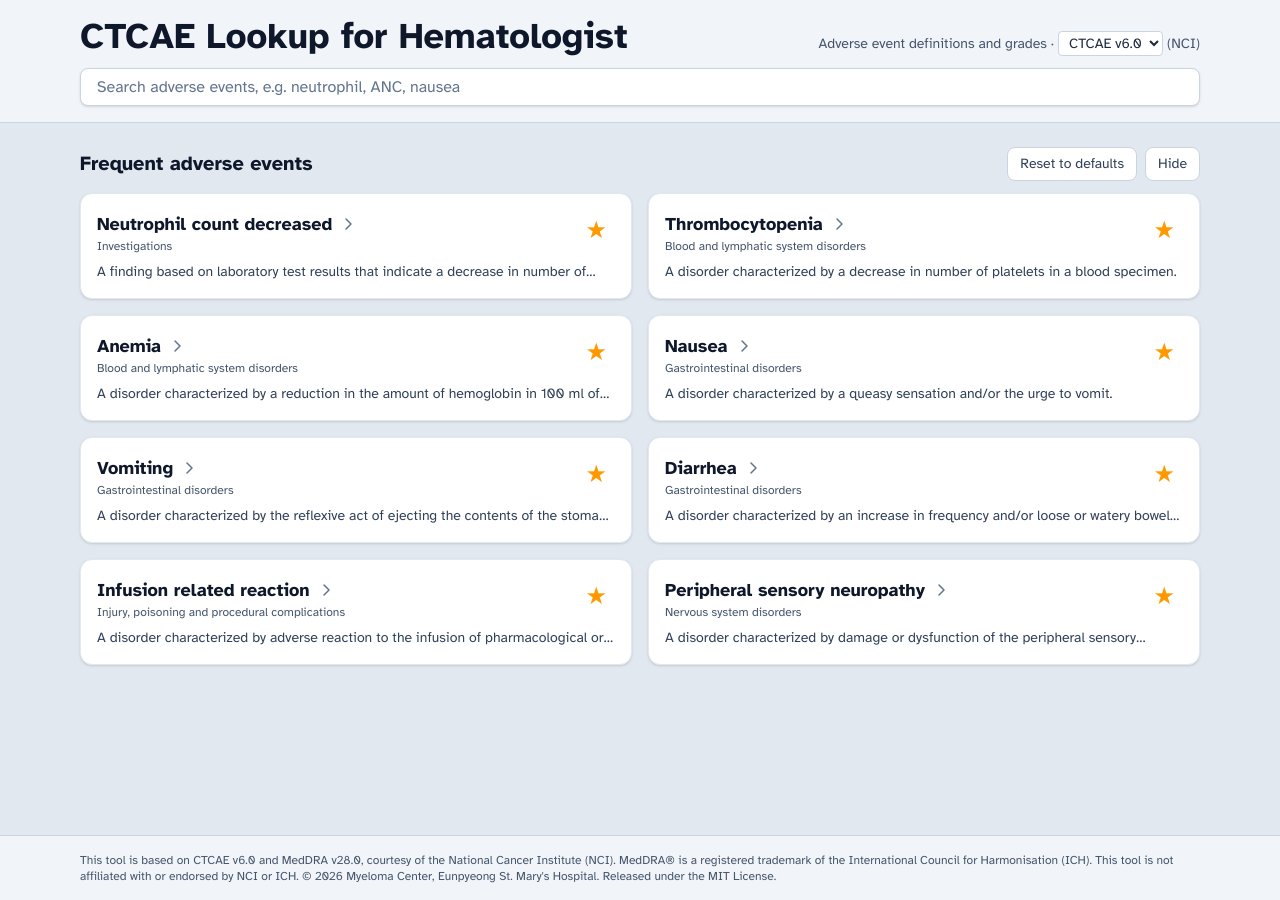
Scenario: typing shows matching cards and clearing returns to favorites
In the dropdown labelled "Search adverse events": coordinates (640, 87) [80,68,1200,106], type "neutrophil"
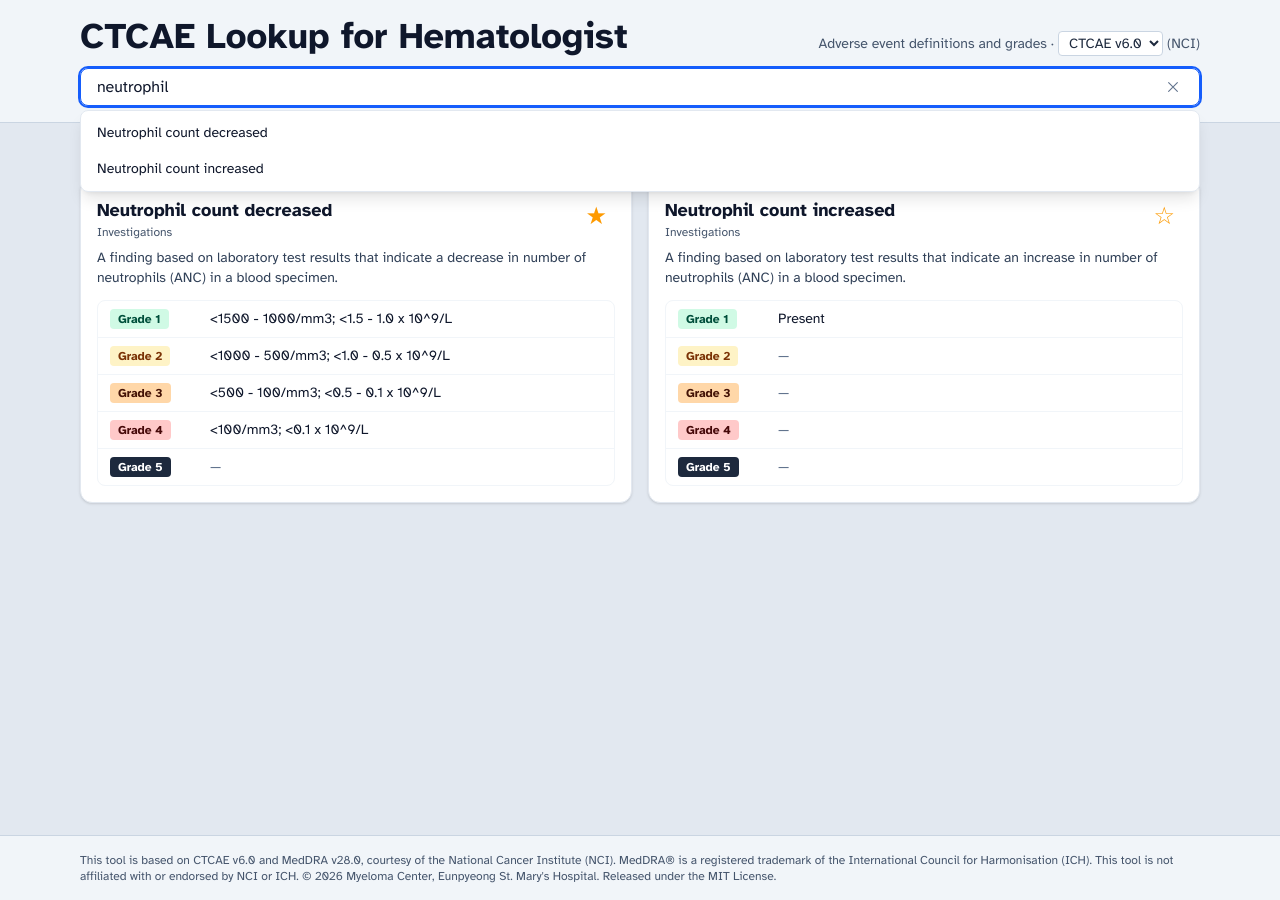
expect the option "Neutrophil count decreased" is shown: met, box [97,124,268,141]
expect the heading "Frequent adverse events" is gone: met
Clear the dropdown named "Search adverse events": coordinates (640, 87) [80,68,1200,106]
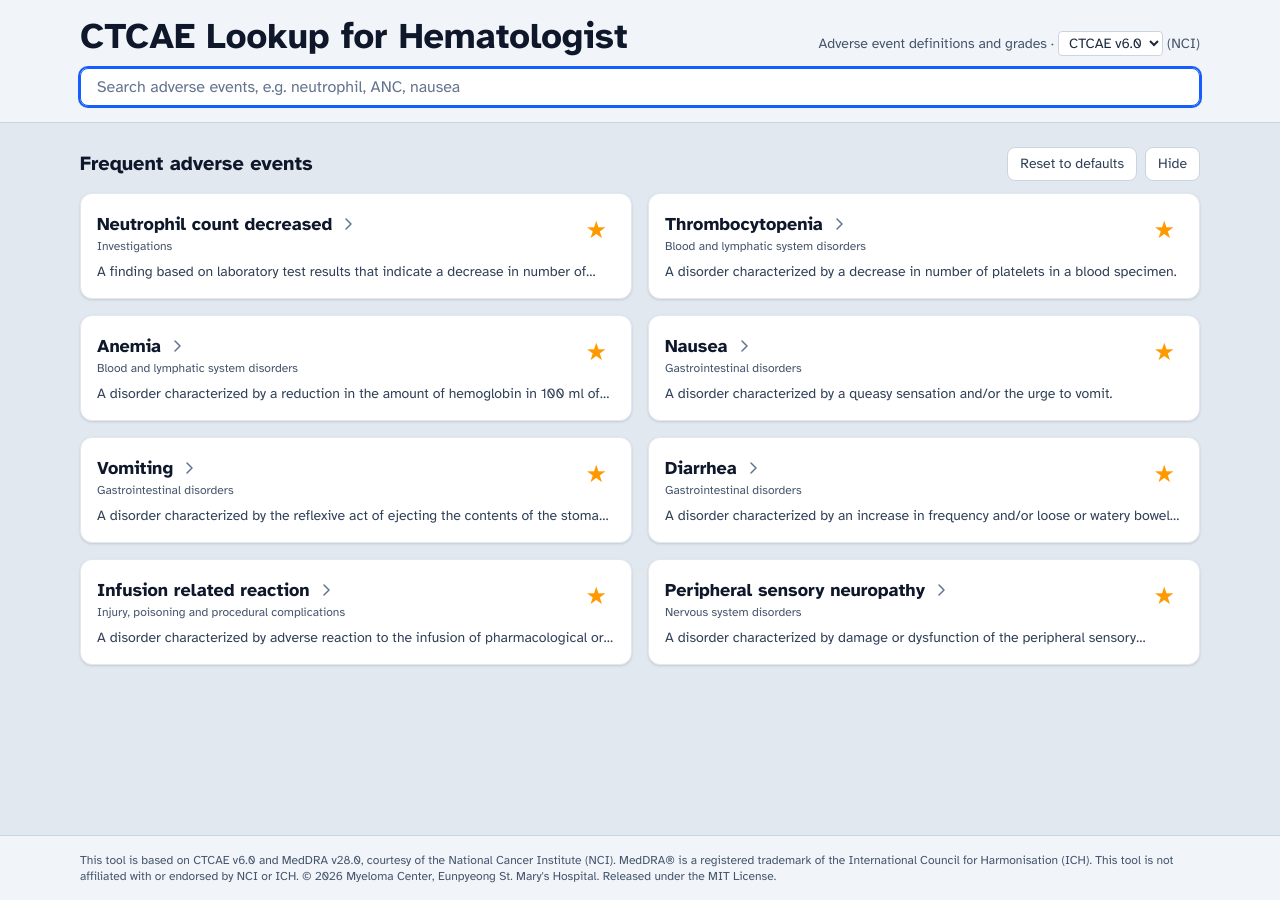
expect the heading "Frequent adverse events" is shown: met, box [80,150,313,178]
